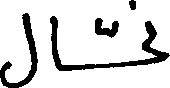ح: (132, 40, 168, 66)
ل: (0, 11, 36, 86), (51, 13, 61, 71)
ن: (126, 0, 168, 35)
